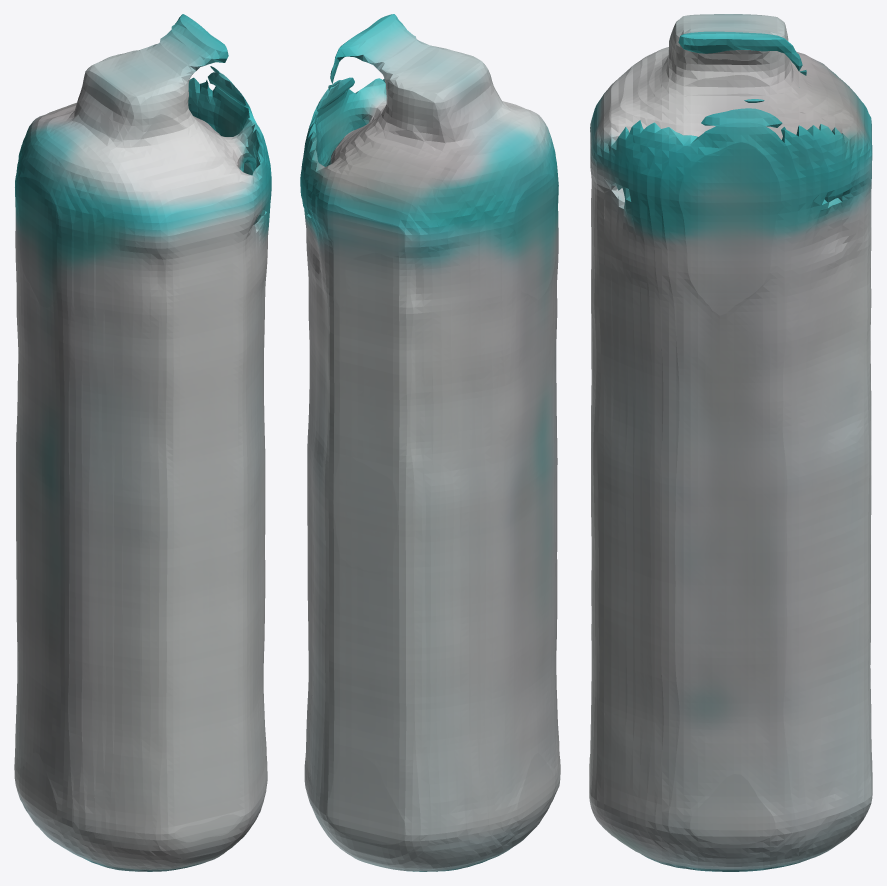
3 views of the same model, side by side, from view 1: azimuth 30°, elevation 25°; view 2: azimuth 150°, elevation 25°; view 3: azimuth 270°, elevation 25° (orthographic). The views are drawn at different scales.
Visible parts, largest first — view 1: tmp8q6wvfor.ply; view 2: tmp8q6wvfor.ply; view 3: tmp8q6wvfor.ply.
Boxes of the visible parts, x1,y1,x2,y2 form: tmp8q6wvfor.ply: [14, 14, 271, 871]; tmp8q6wvfor.ply: [300, 14, 560, 871]; tmp8q6wvfor.ply: [589, 14, 872, 871].
Bounding box in the file's own units: 0.5562 × 1.98 × 0.609.
